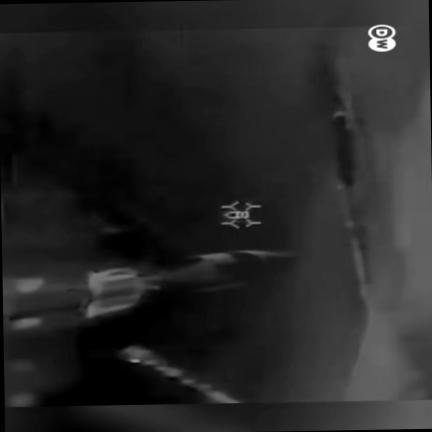Shahed: (0, 132, 301, 407)
